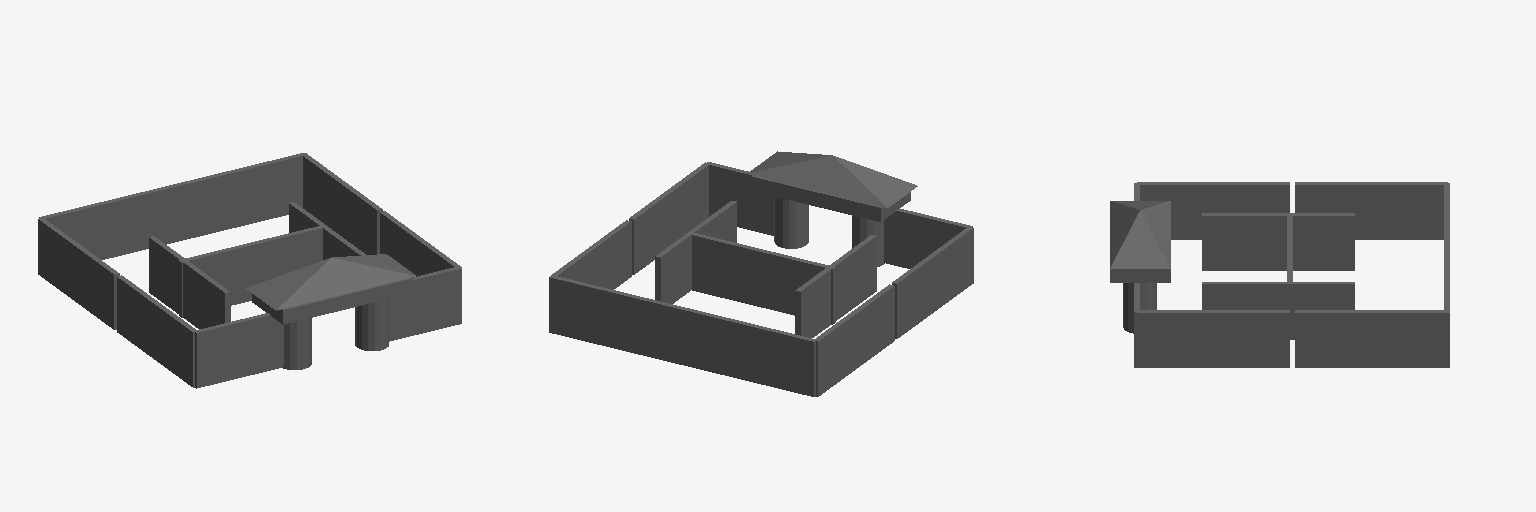
File: wall01.obj
The picture shows the model from 3 angles: view 1: azimuth 30°, elevation 25°; view 2: azimuth 150°, elevation 25°; view 3: azimuth 270°, elevation 25°; orthographic projection.
Parts seen in each view (by area): view 1: Cube.6, Cube, Cube.3, Pyramid, Cube.7, Cube.1, Cube.8, Cube.10, Cube.4, Cube.2, Cube.5, Cylinder.1 (+2 smaller); view 2: Cube.6, Cube, Pyramid, Cube.1, Cube.7, Cube.10, Cube.2, Cube.9, Cube.3, Cube.8, Cube.4, Cube.5 (+2 smaller); view 3: Cube.2, Cube.8, Cube.10, Cube.7, Cube.1, Cube.9, Pyramid, Cylinder.1, Cube.6, Cube.5.
Boxes of the visible parts, box(x1,y1,x2,y2) form: Cube.6: box(39, 153, 304, 259); Cube: box(179, 225, 324, 317); Cube.3: box(194, 313, 283, 388); Pyramid: box(246, 254, 415, 310); Cube.7: box(38, 218, 119, 329); Cube.1: box(117, 275, 197, 387); Cube.8: box(301, 153, 382, 254); Cube.10: box(149, 236, 230, 328); Cube.4: box(359, 267, 461, 347); Cube.2: box(380, 211, 461, 277); Cube.5: box(252, 278, 412, 324); Cylinder.1: box(355, 299, 388, 350); Cube.6: box(549, 276, 815, 396); Cube: box(691, 232, 835, 324); Pyramid: box(747, 151, 917, 207); Cube.1: box(892, 227, 973, 338); Cube.7: box(813, 284, 894, 396); Cube.10: box(795, 235, 876, 337); Cube.2: box(629, 162, 708, 274); Cube.9: box(655, 201, 736, 303); Cube.3: box(884, 208, 972, 268); Cube.8: box(551, 220, 631, 289); Cube.4: box(705, 162, 808, 242); Cube.5: box(751, 175, 910, 221); Cube.2: box(1137, 310, 1289, 367); Cube.8: box(1295, 310, 1447, 367); Cube.10: box(1202, 213, 1354, 270); Cube.7: box(1295, 182, 1447, 239); Cube.1: box(1137, 182, 1289, 239); Cube.9: box(1202, 282, 1354, 339); Pyramid: box(1110, 201, 1170, 268); Cylinder.1: box(1123, 283, 1156, 333); Cube.6: box(1444, 183, 1449, 367); Cube.5: box(1110, 269, 1170, 282).
Size of the model in its own units: 1013 by 348 by 1114.